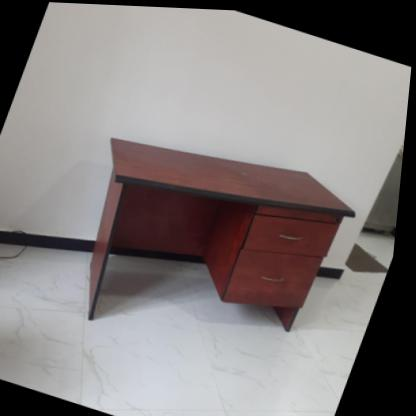Table: (36, 98, 390, 398)
